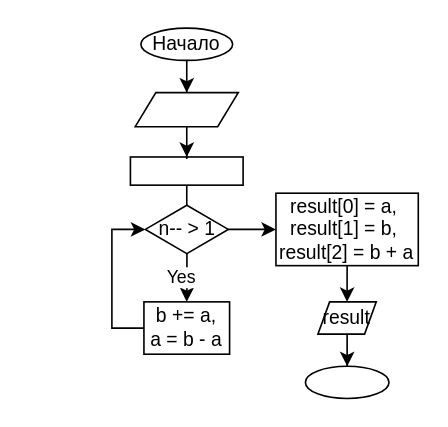
This 448x427 diagram has some shape labels left out. Each missing label, with the centre of its shape:
"a = 0, b = 1" goes at pixel 186 170.
"N, *result" goes at pixel 186 109.
"Конец" goes at pixel 346 381.
